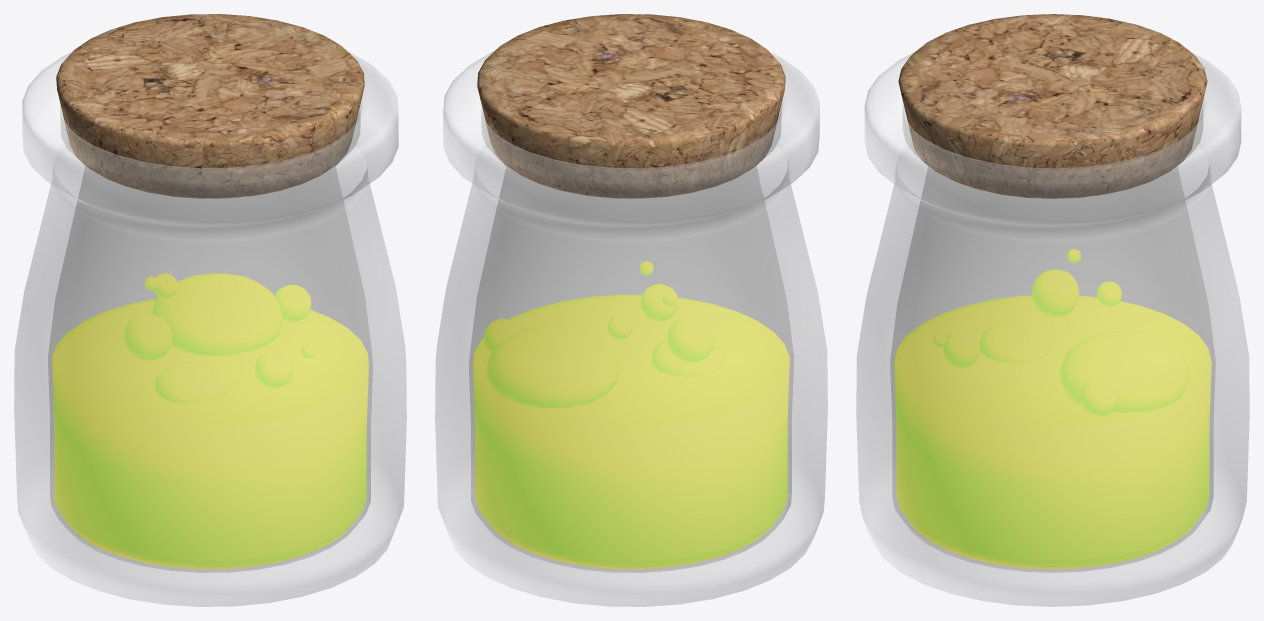
Rendered from potion.glb.
The picture shows the model from 3 angles, left to right: view 1: azimuth 30°, elevation 25°; view 2: azimuth 150°, elevation 25°; view 3: azimuth 270°, elevation 25°; orthographic projection.
Visible parts, largest first — view 1: Bottle Exterior_1, Bottle Interior_5, Liquid_4, Cork_3, Cube.001_7, Cube.004_10, Cube_6, Cube.006_12, Cube.003_9; view 2: Bottle Exterior_1, Bottle Interior_5, Liquid_4, Cork_3, Cube.001_7, Cube_6, Cube.004_10, Cube.006_12, Cube.003_9; view 3: Bottle Exterior_1, Bottle Interior_5, Liquid_4, Cork_3, Cube.001_7, Cube.004_10, Cube_6, Cube.003_9, Cube.006_12.
Boxes of the visible parts, left/top/right/bottom form: Bottle Exterior_1: left=14, top=51, right=406, bottom=606; Bottle Interior_5: left=48, top=106, right=372, bottom=572; Liquid_4: left=52, top=299, right=368, bottom=569; Cork_3: left=56, top=14, right=364, bottom=198; Cube.001_7: left=151, top=273, right=283, bottom=355; Cube.004_10: left=154, top=362, right=228, bottom=404; Cube_6: left=124, top=313, right=171, bottom=361; Cube.006_12: left=254, top=350, right=292, bottom=388; Cube.003_9: left=274, top=284, right=311, bottom=322; Bottle Exterior_1: left=435, top=51, right=827, bottom=606; Bottle Interior_5: left=469, top=106, right=793, bottom=572; Liquid_4: left=473, top=294, right=789, bottom=569; Cork_3: left=477, top=14, right=785, bottom=198; Cube.001_7: left=486, top=325, right=619, bottom=407; Cube_6: left=667, top=315, right=715, bottom=362; Cube.004_10: left=651, top=339, right=724, bottom=376; Cube.006_12: left=640, top=284, right=678, bottom=321; Cube.003_9: left=484, top=318, right=520, bottom=352; Bottle Exterior_1: left=856, top=52, right=1249, bottom=606; Bottle Interior_5: left=890, top=106, right=1215, bottom=572; Liquid_4: left=894, top=295, right=1211, bottom=569; Cork_3: left=898, top=14, right=1207, bottom=198; Cube.001_7: left=1059, top=330, right=1190, bottom=412; Cube.004_10: left=979, top=320, right=1051, bottom=362; Cube_6: left=1031, top=269, right=1079, bottom=317; Cube.003_9: left=1080, top=378, right=1118, bottom=416; Cube.006_12: left=943, top=330, right=980, bottom=367.
Size of the model in its own units: 5.2 by 6.59 by 5.2.
4 materials, 1 textured.
